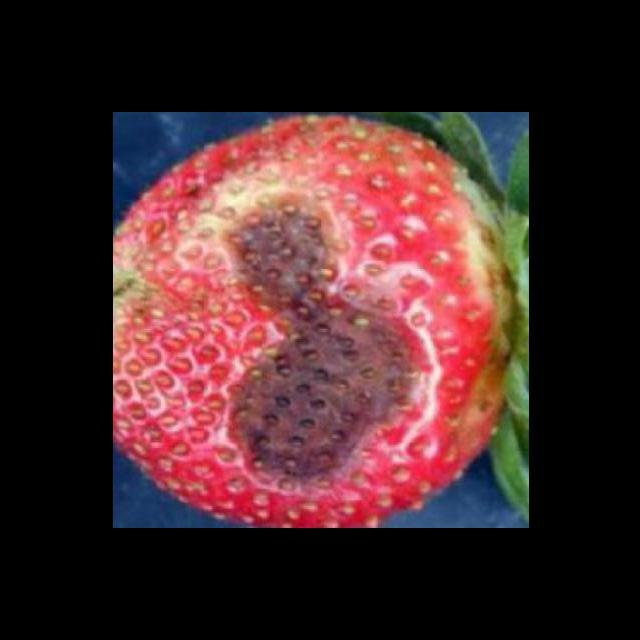Anthracnose Fruit Rot: (216, 183, 436, 496)
